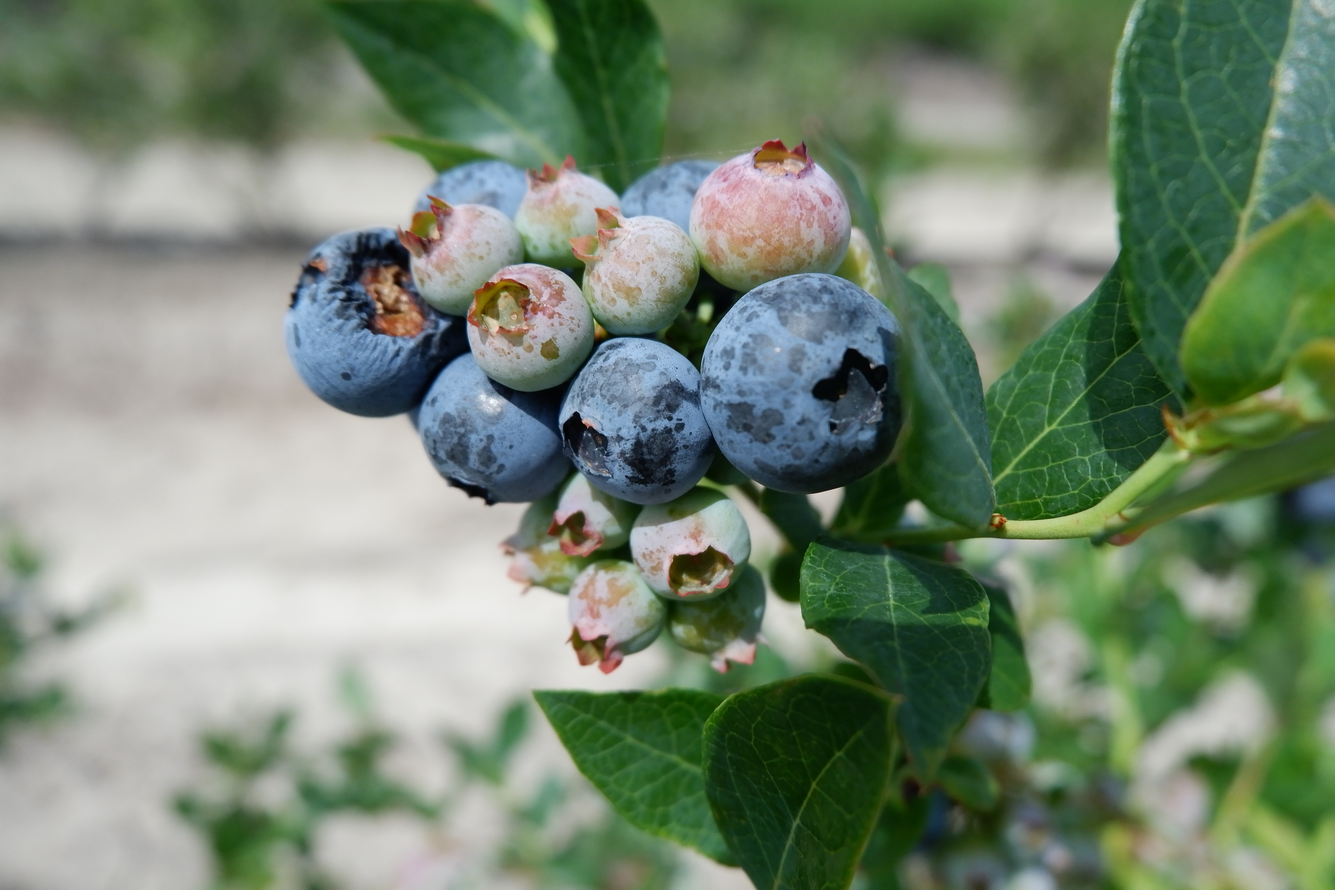Immature: (694, 145, 847, 286), (468, 267, 591, 387), (578, 213, 696, 331), (404, 203, 519, 309), (633, 492, 747, 597), (516, 159, 617, 269), (670, 567, 764, 668), (570, 563, 662, 665), (504, 503, 586, 596), (554, 474, 636, 553), (840, 229, 886, 299)
Mature: (705, 278, 905, 488), (288, 230, 462, 413), (564, 339, 714, 502), (421, 354, 565, 498), (623, 159, 713, 233), (416, 161, 526, 217)
